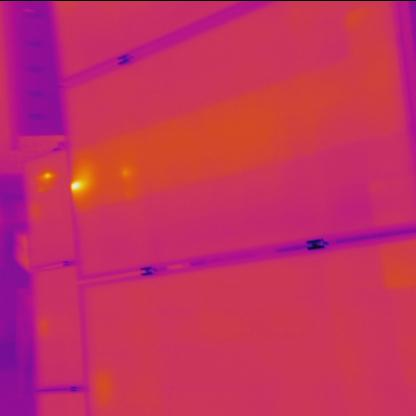hotspot: (68, 170, 90, 198), (36, 168, 53, 194)
